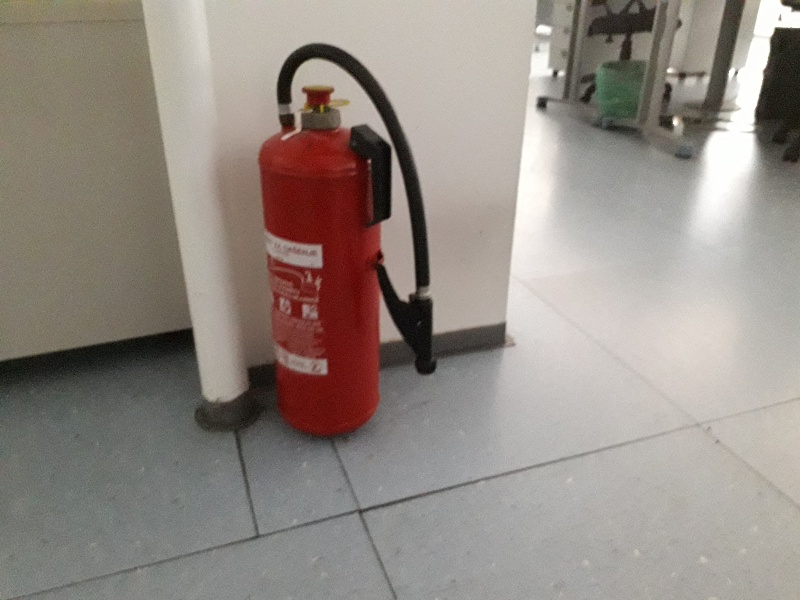vataparat: (257, 44, 438, 435)
